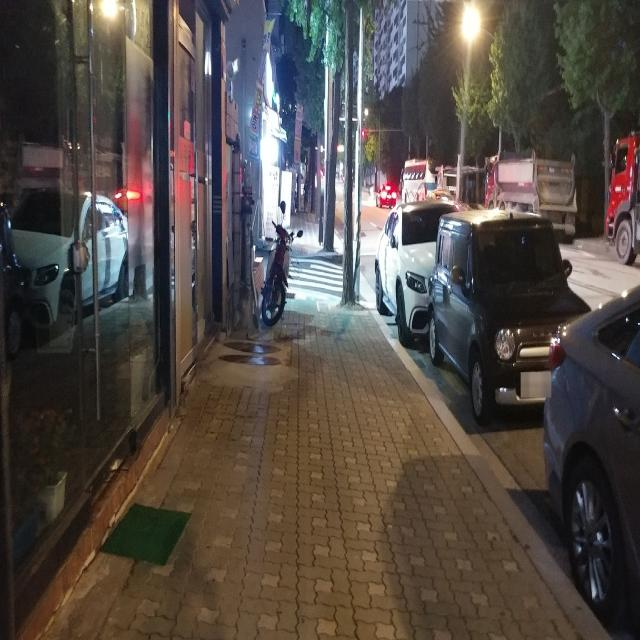횡단보도: (285, 258, 344, 298)
